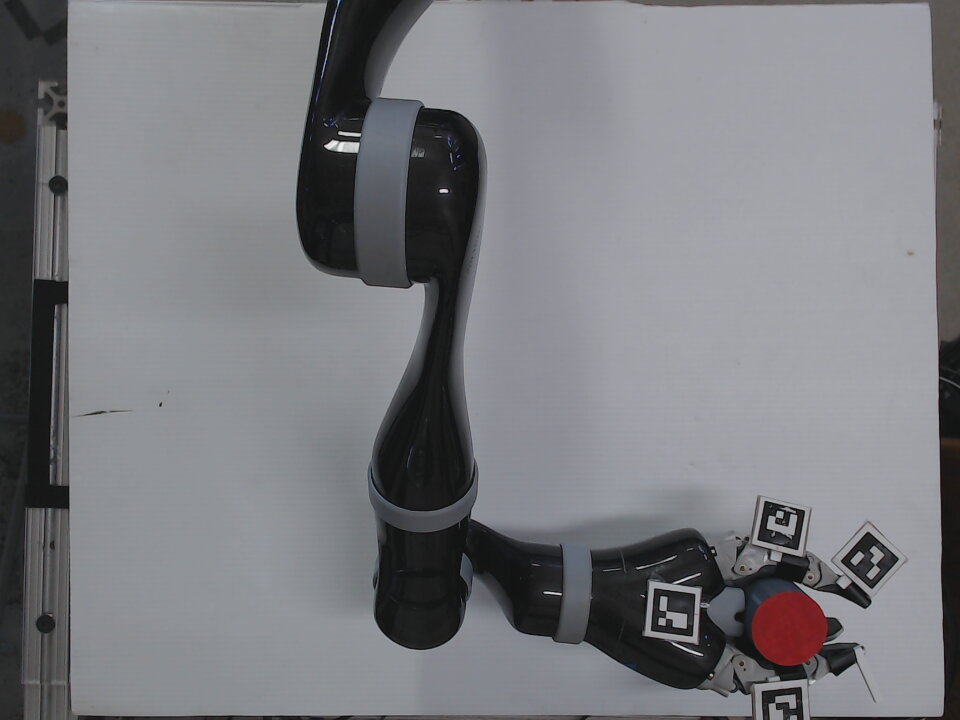cylinder: (741, 575, 830, 669)
